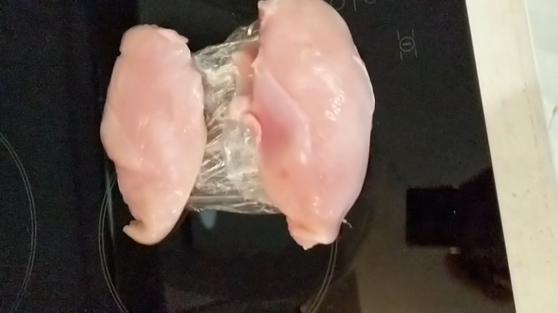chicken_fillet: (243, 1, 374, 248), (100, 23, 210, 252)
